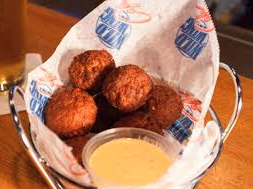pizza: (94, 0, 155, 49)
sushi: (81, 127, 182, 186)
